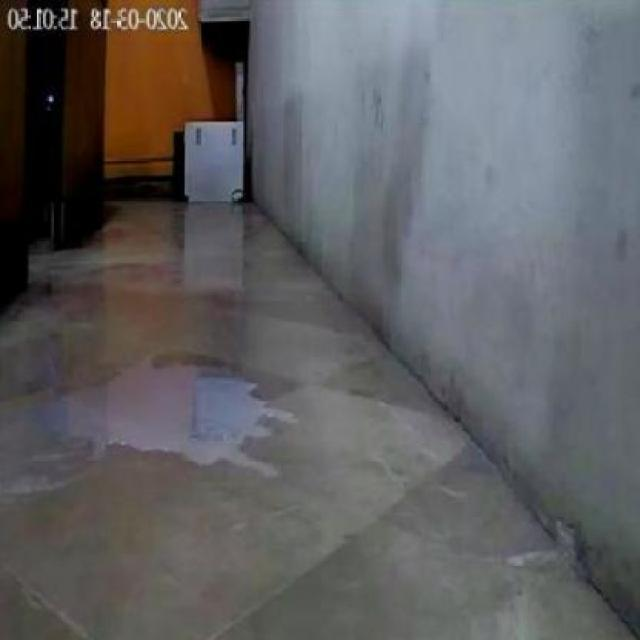spillage: (33, 364, 271, 467)
